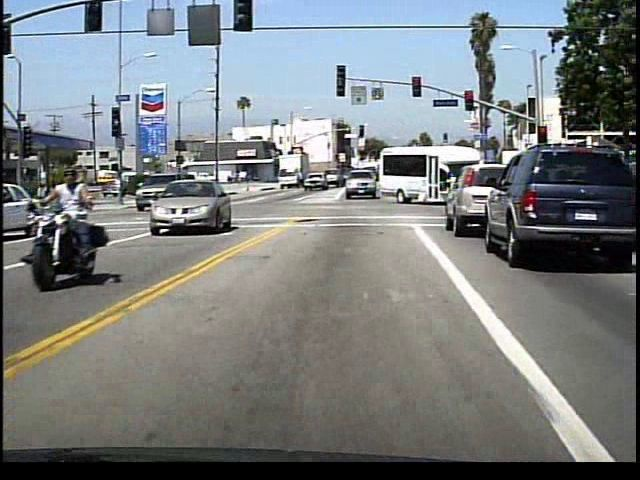person: (46, 158, 113, 283)
